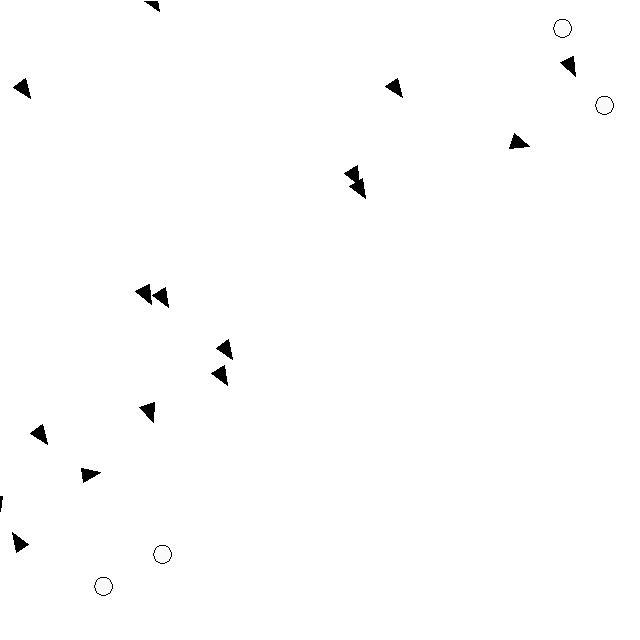Kolodech: (593, 94, 616, 116), (552, 17, 574, 39), (93, 575, 114, 598), (152, 543, 173, 565)
Otmetka: (9, 530, 31, 555), (11, 76, 33, 100), (507, 131, 532, 152), (134, 282, 154, 308), (29, 422, 50, 446), (558, 54, 578, 79), (210, 363, 230, 388), (138, 400, 158, 425), (214, 338, 234, 362), (384, 76, 404, 99), (151, 284, 170, 308), (79, 465, 103, 484), (342, 164, 361, 186), (348, 178, 367, 200)
